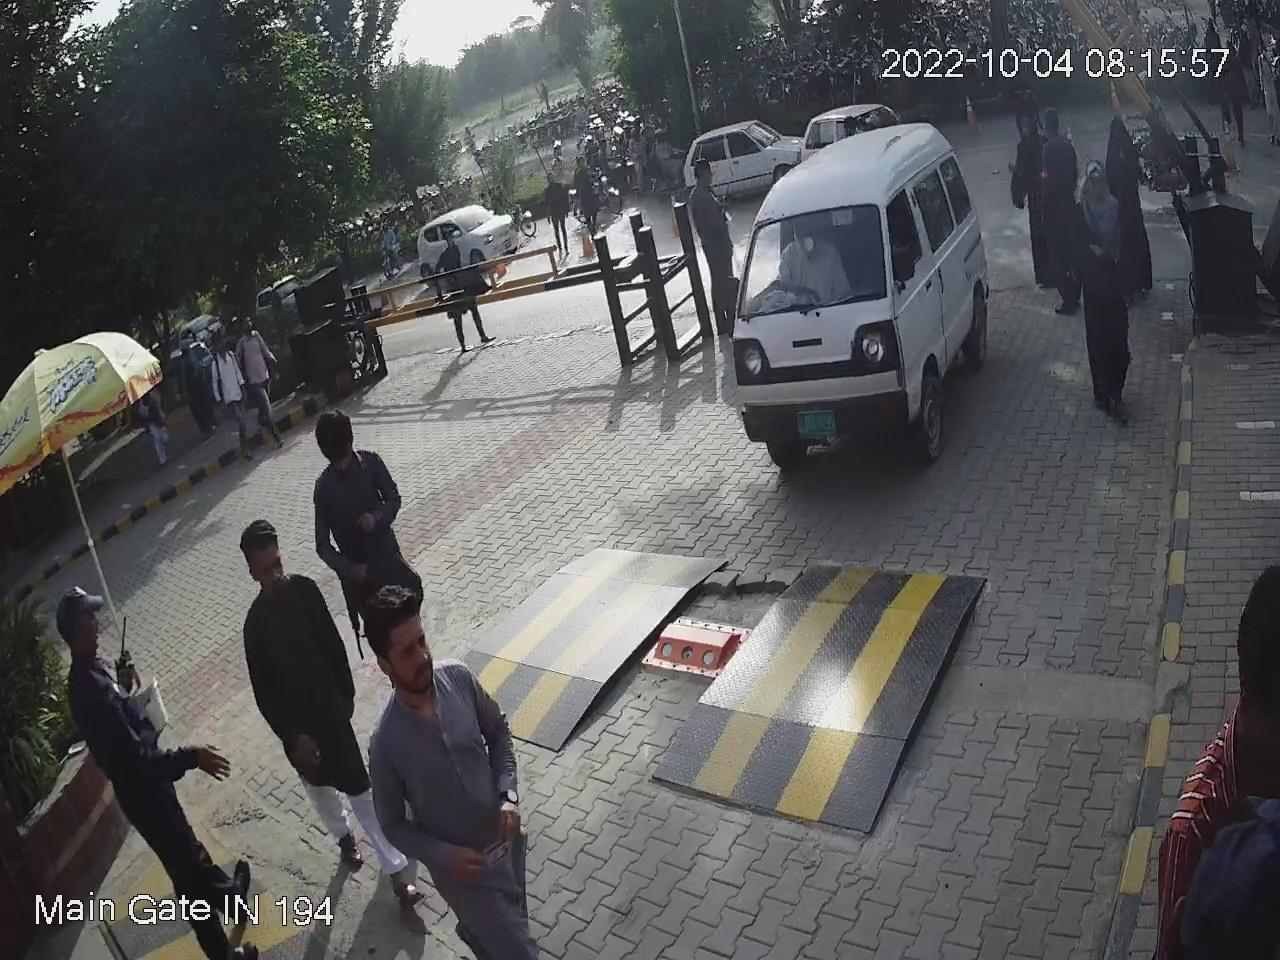windshield: (733, 198, 893, 328)
